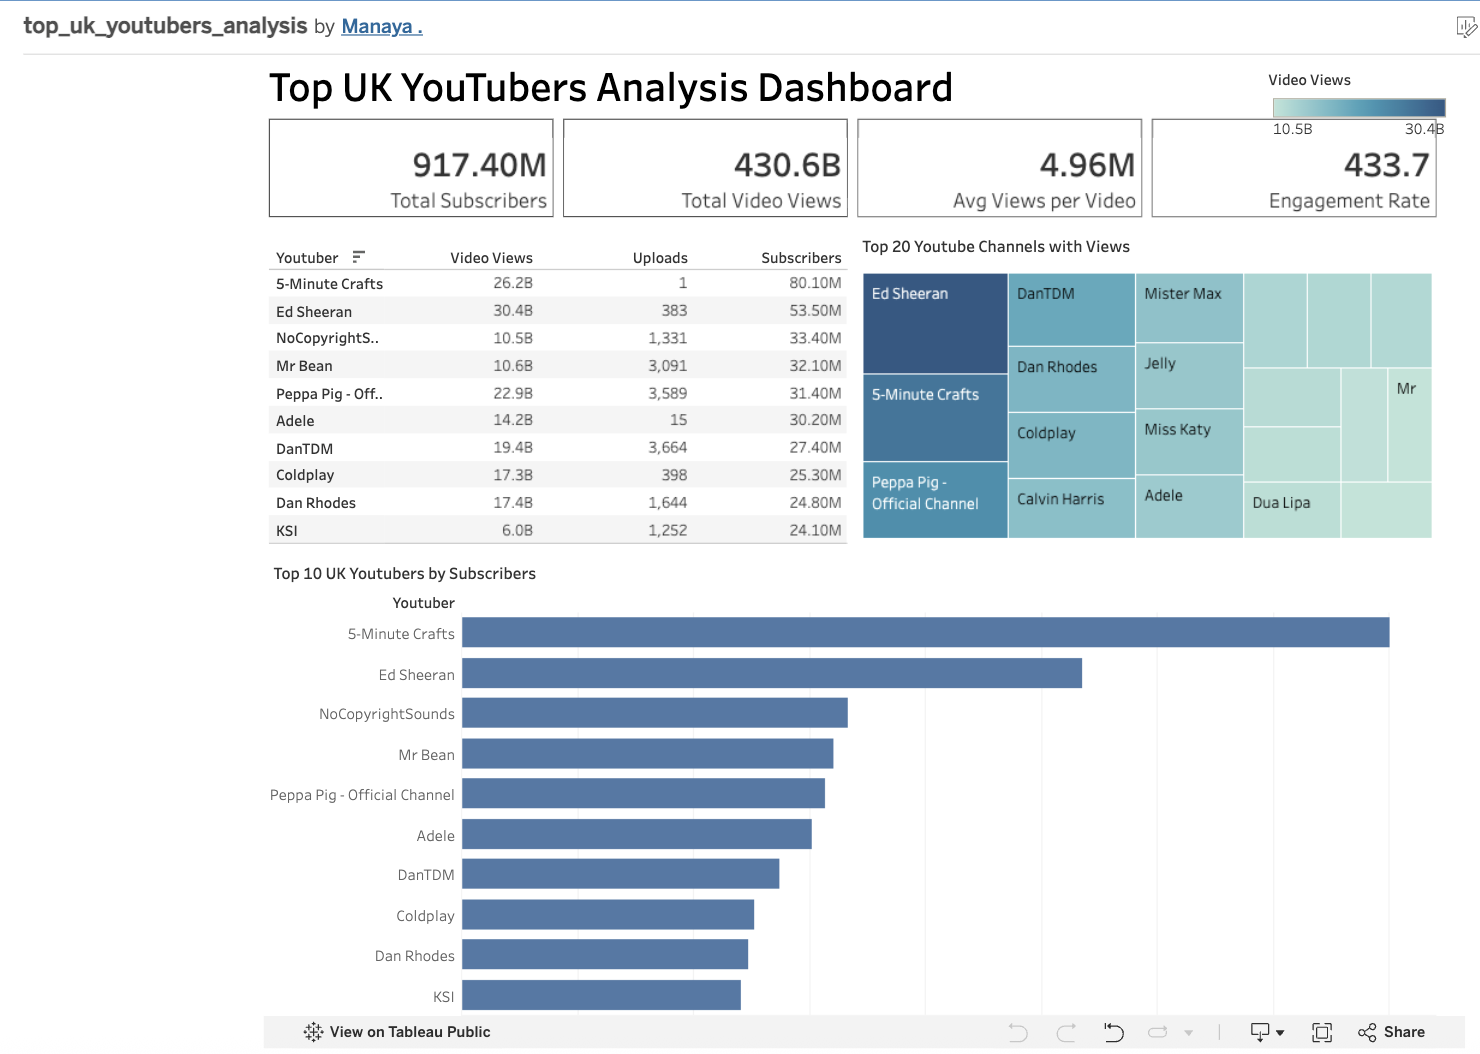

The dashboard page shown, as its layout file describes it:
{"tool":"tableau","page":{"name":"Dashboard 2","canvas":[1000,1000],"units":"permille","ordinal":0},"visuals":[{"type":"text","box":[0,0,980.4,87.8]},{"type":"legend","title":"Top 20 Views(tree map)","param":"[federated.0q1ertf03zk4c61giruqp0mmu2k8].[sum:video views:qk]","box":[842.7,14.3,149.8,116.5]},{"type":"worksheet","title":"Total Subscribers KPI","mark":"Automatic","box":[0,87.8,245.3,161.3]},{"type":"worksheet","title":"Total Video views KPI","mark":"Automatic","box":[245.3,87.8,245.3,161.3]},{"type":"worksheet","title":"Avg Views per Video KPI ","mark":"Automatic","box":[490.6,87.8,245.3,161.3]},{"type":"worksheet","title":"Engagement rate KPI","mark":"Automatic","box":[736,87.8,244.4,161.3]},{"type":"worksheet","title":"Top 10 channel details","mark":"Automatic","rows":["Youtuber"],"box":[0,249.1,490.6,487.5]},{"type":"worksheet","title":"Top 20 Views(tree map)","mark":"Automatic","box":[490.6,249.1,489.7,487.5]}]}

Visuals, with their boxes on the dashboard's canvas, which has no fixed pixel size, in thousandths of its width and height (x1, y1, x2, y2). These are canvas units, not pixel positions in the 1480x1054 screenshot, which may show the page scaled, cropped or inside an application window:
text: (x1=0, y1=0, x2=980, y2=88)
"Top 20 Views(tree map)" legend: (x1=843, y1=14, x2=992, y2=131)
"Total Subscribers KPI" worksheet: (x1=0, y1=88, x2=245, y2=249)
"Total Video views KPI" worksheet: (x1=245, y1=88, x2=491, y2=249)
"Avg Views per Video KPI " worksheet: (x1=491, y1=88, x2=736, y2=249)
"Engagement rate KPI" worksheet: (x1=736, y1=88, x2=980, y2=249)
"Top 10 channel details" worksheet: (x1=0, y1=249, x2=491, y2=737)
"Top 20 Views(tree map)" worksheet: (x1=491, y1=249, x2=980, y2=737)
